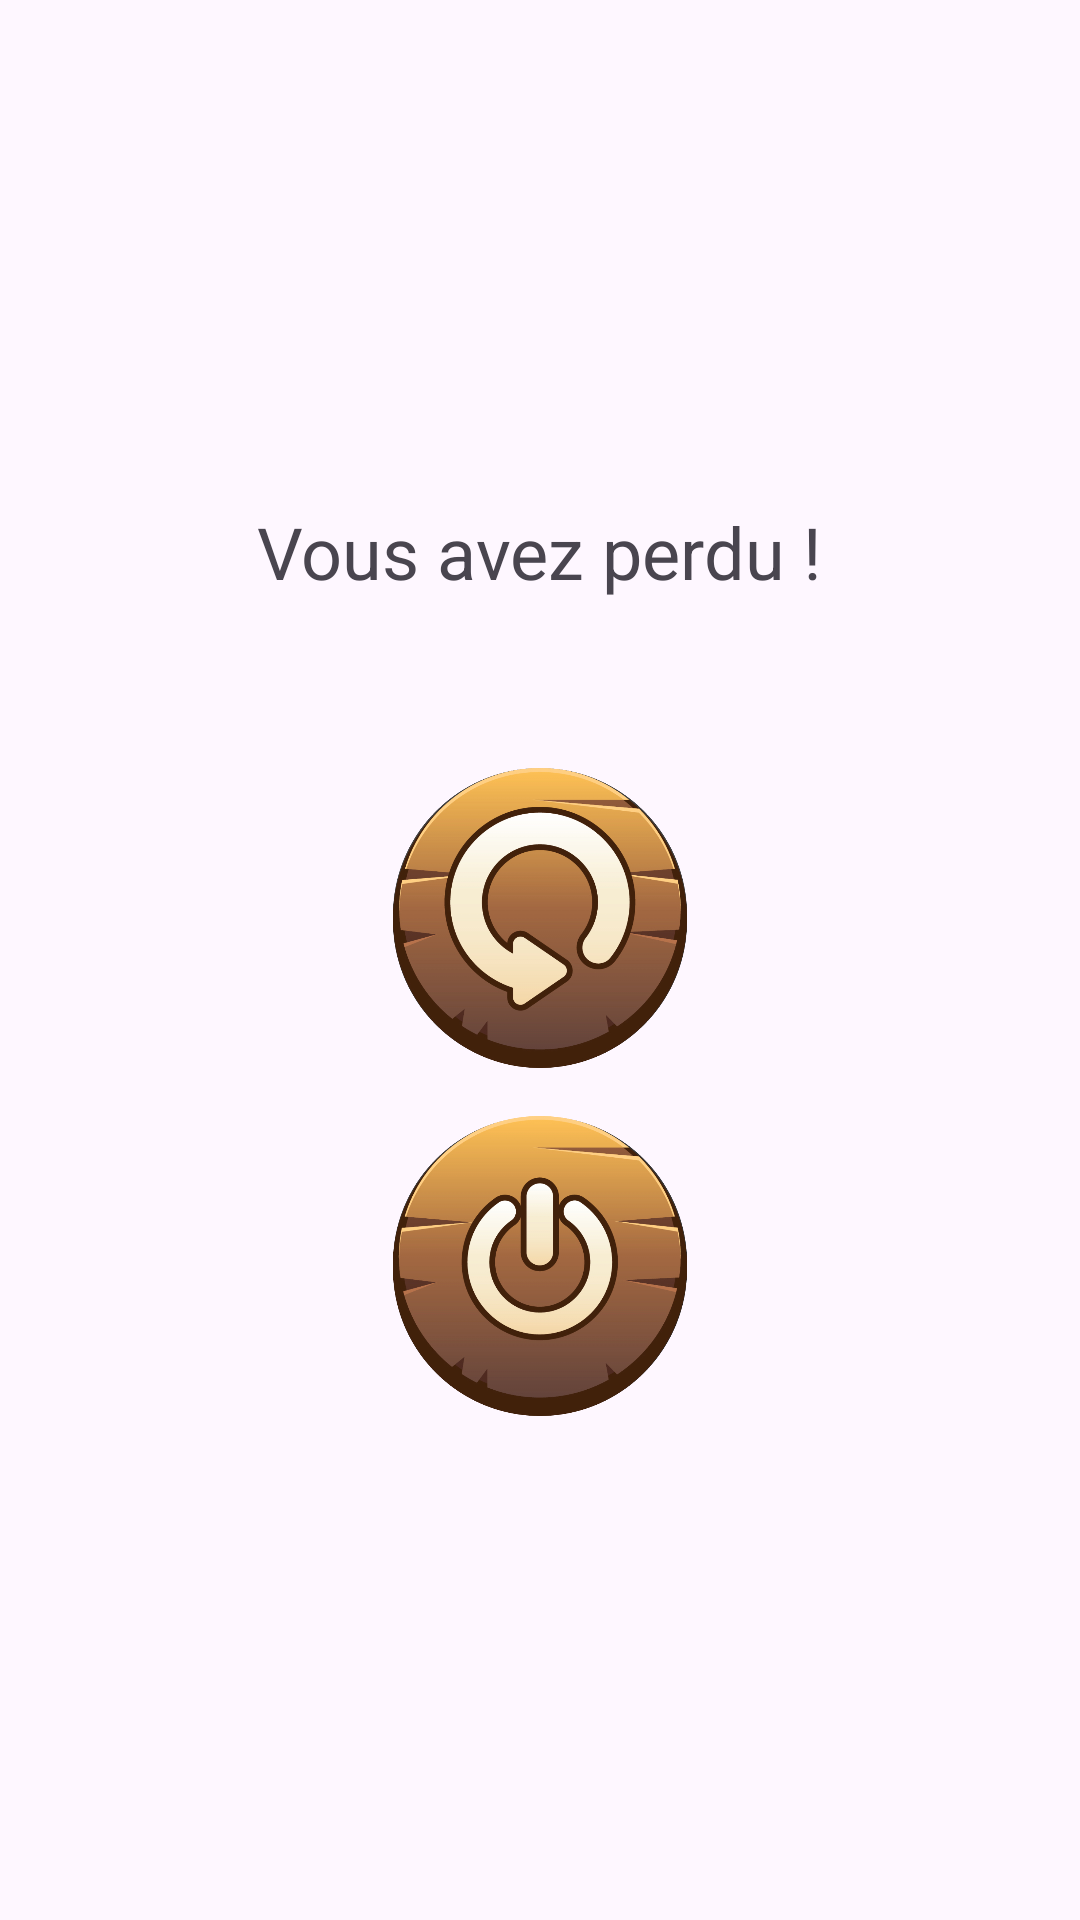

Icons on this 1080*1920 Android screen, each with the point to tap as (x,y):
quit game: (540,1266)
restart game: (540,918)
